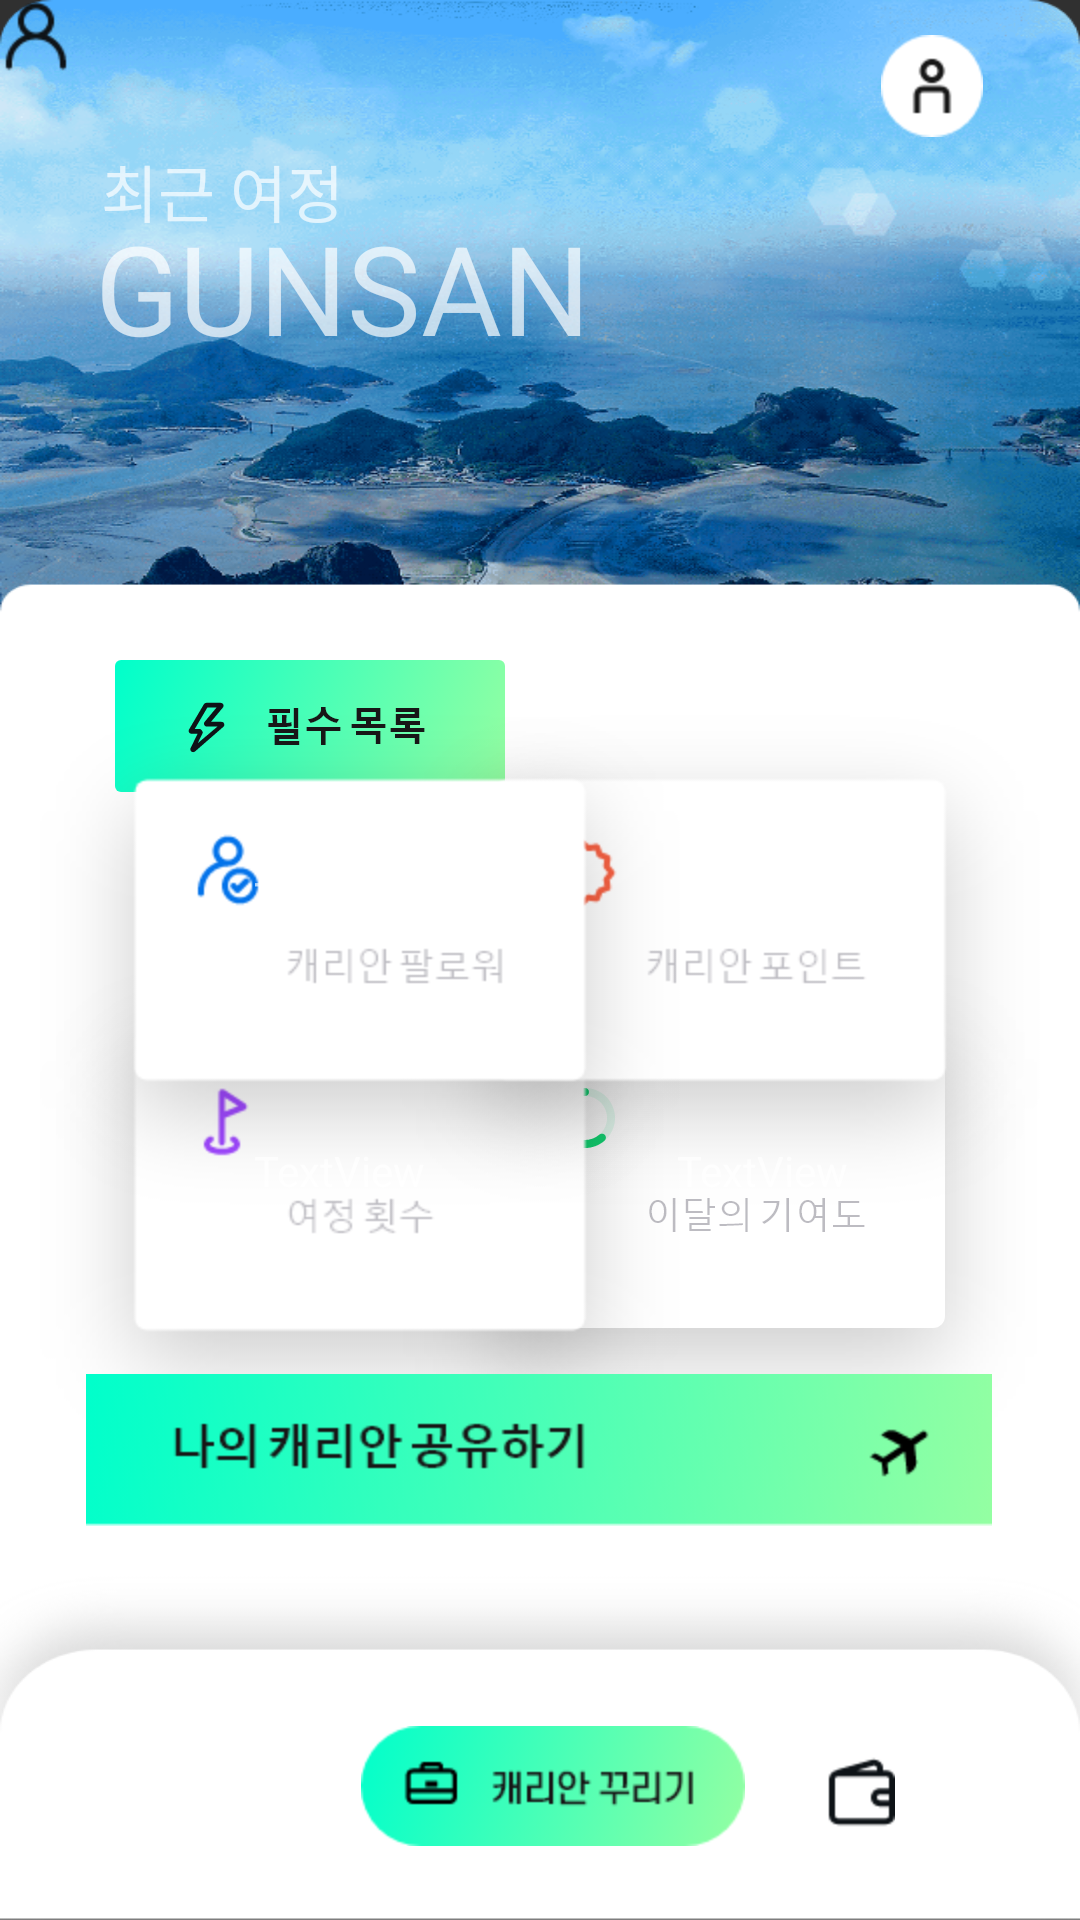

Icons on this 1080*1920 Android screen, each with the point to tap as [x,y]:
profile: [932,86]
wallet: [861,1792]
